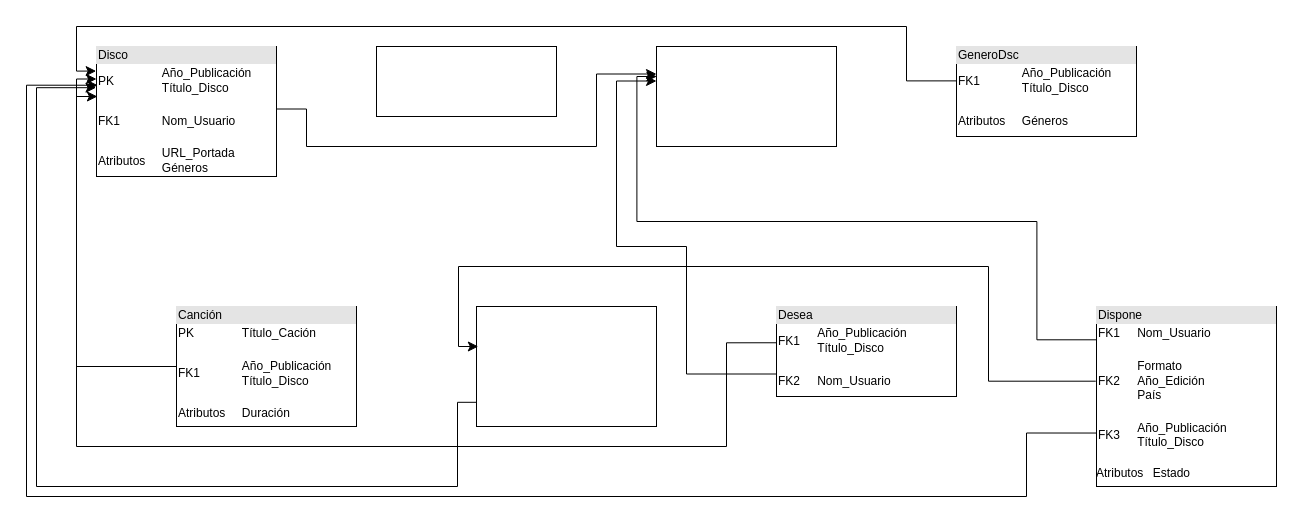
The diagram is 1294 pixels wide and 524 high, and some of its shapes have lost their labels. The shapes that lost their labels are listed below. From the top down, each one's box as (x1, y1, x2, y2) in pixels, then its label:
(376, 46, 556, 116): Grupo PK Nom_Grupo Atributos URL
(656, 46, 836, 146): Usuario PK Nom_Usuario Atributos Nombre Password Email
(476, 306, 656, 426): Edición PK Formato Año_Edición País FK1 Año_Publicación Título_Disco
